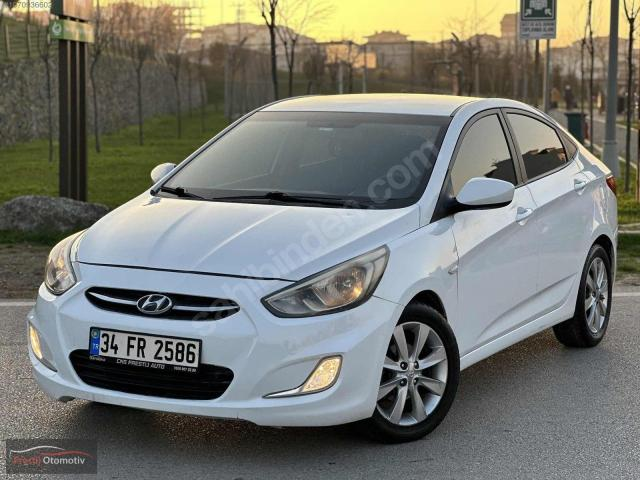plaka: (91, 330, 200, 372)
